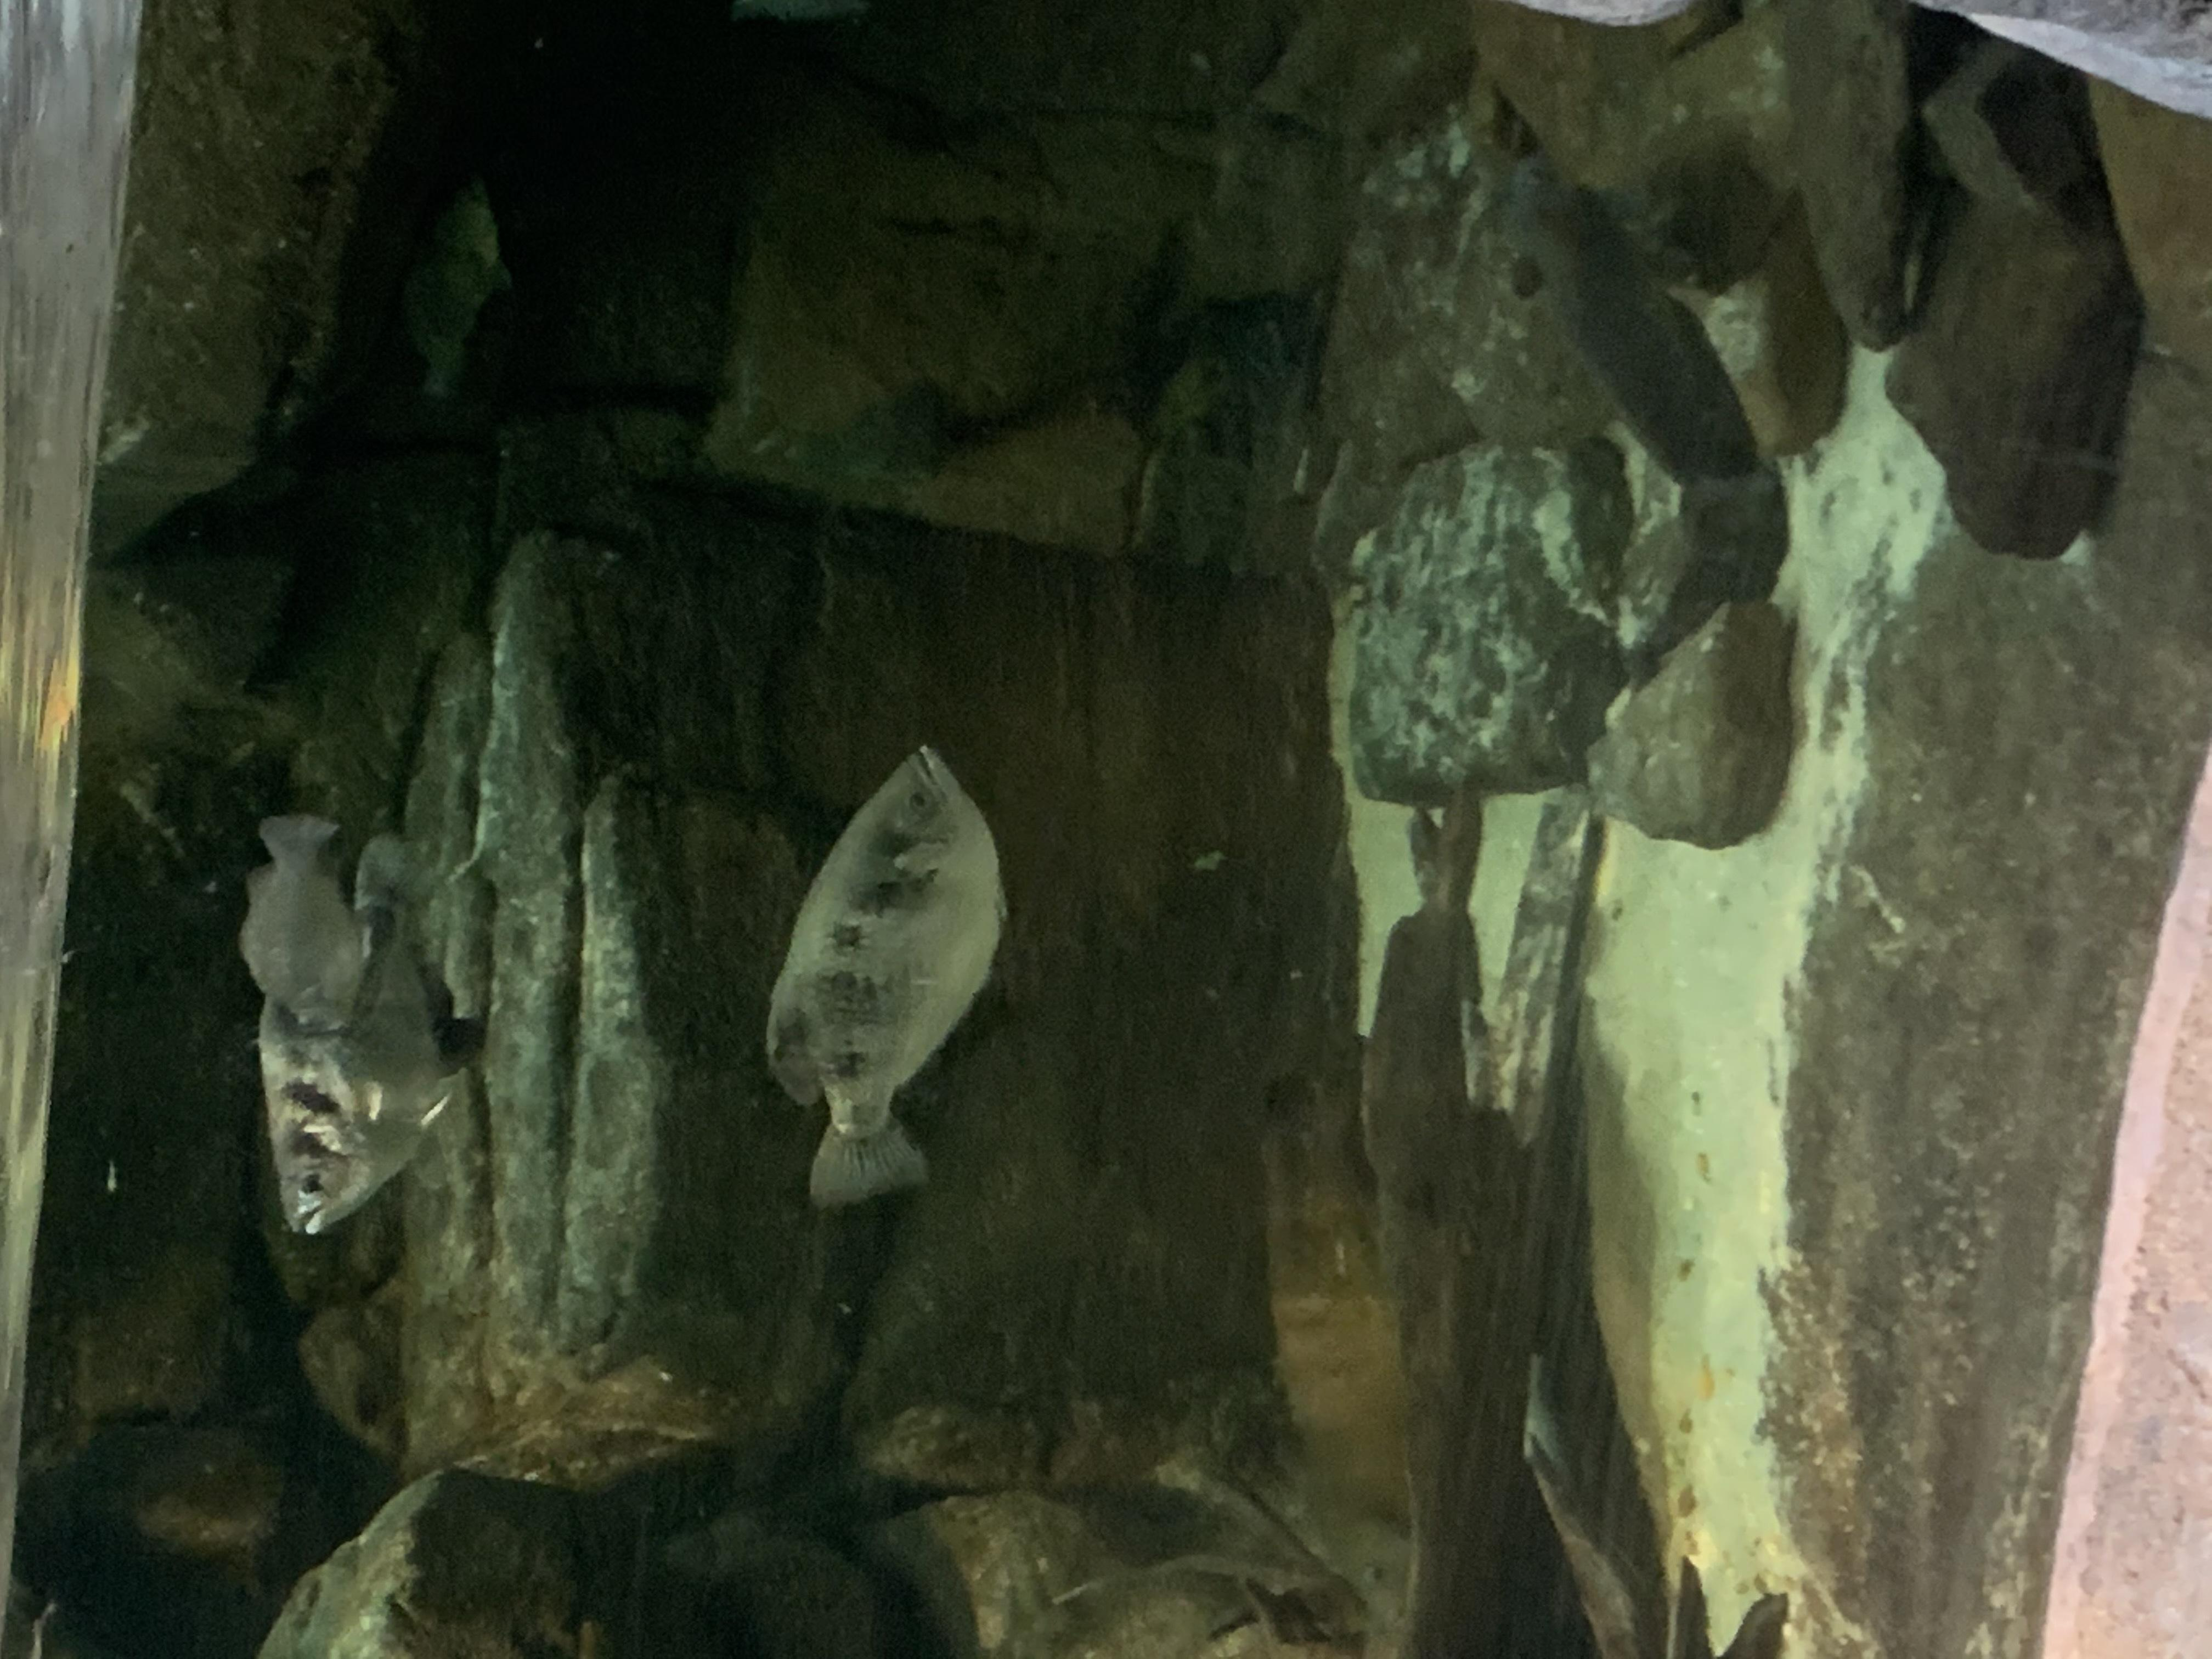fish: (757, 739, 1012, 1220), (256, 825, 464, 1243), (240, 806, 373, 1046)
